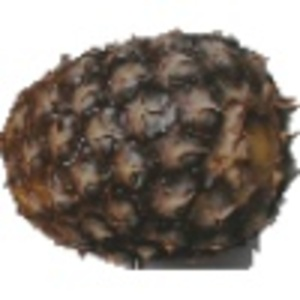abacaxi: (6, 24, 283, 256)
